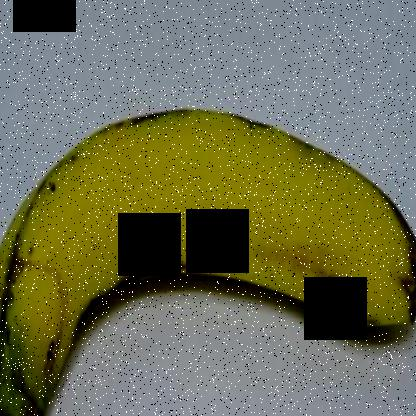freshripe: (1, 99, 415, 415)
